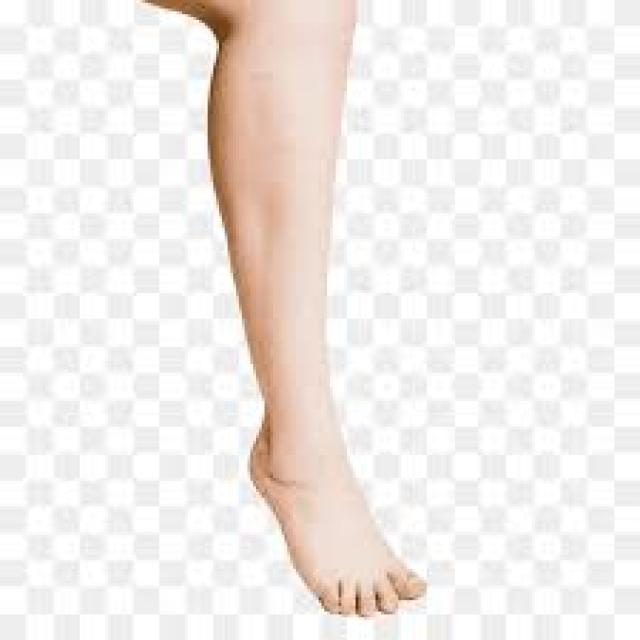Normal: (156, 57, 410, 351)
